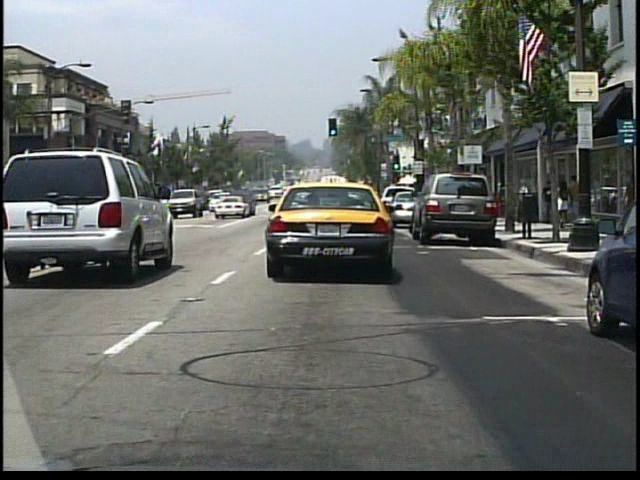person: (569, 172, 589, 230), (540, 176, 557, 225), (557, 175, 572, 230)
